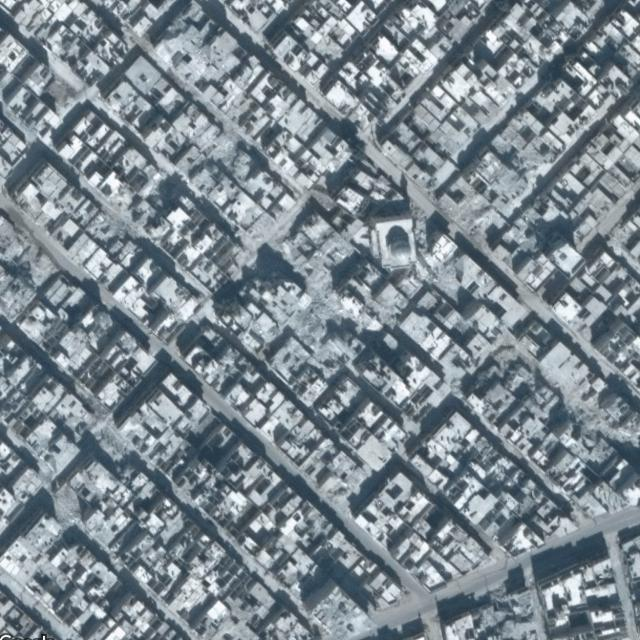damaged_building: (292, 275, 372, 351)
